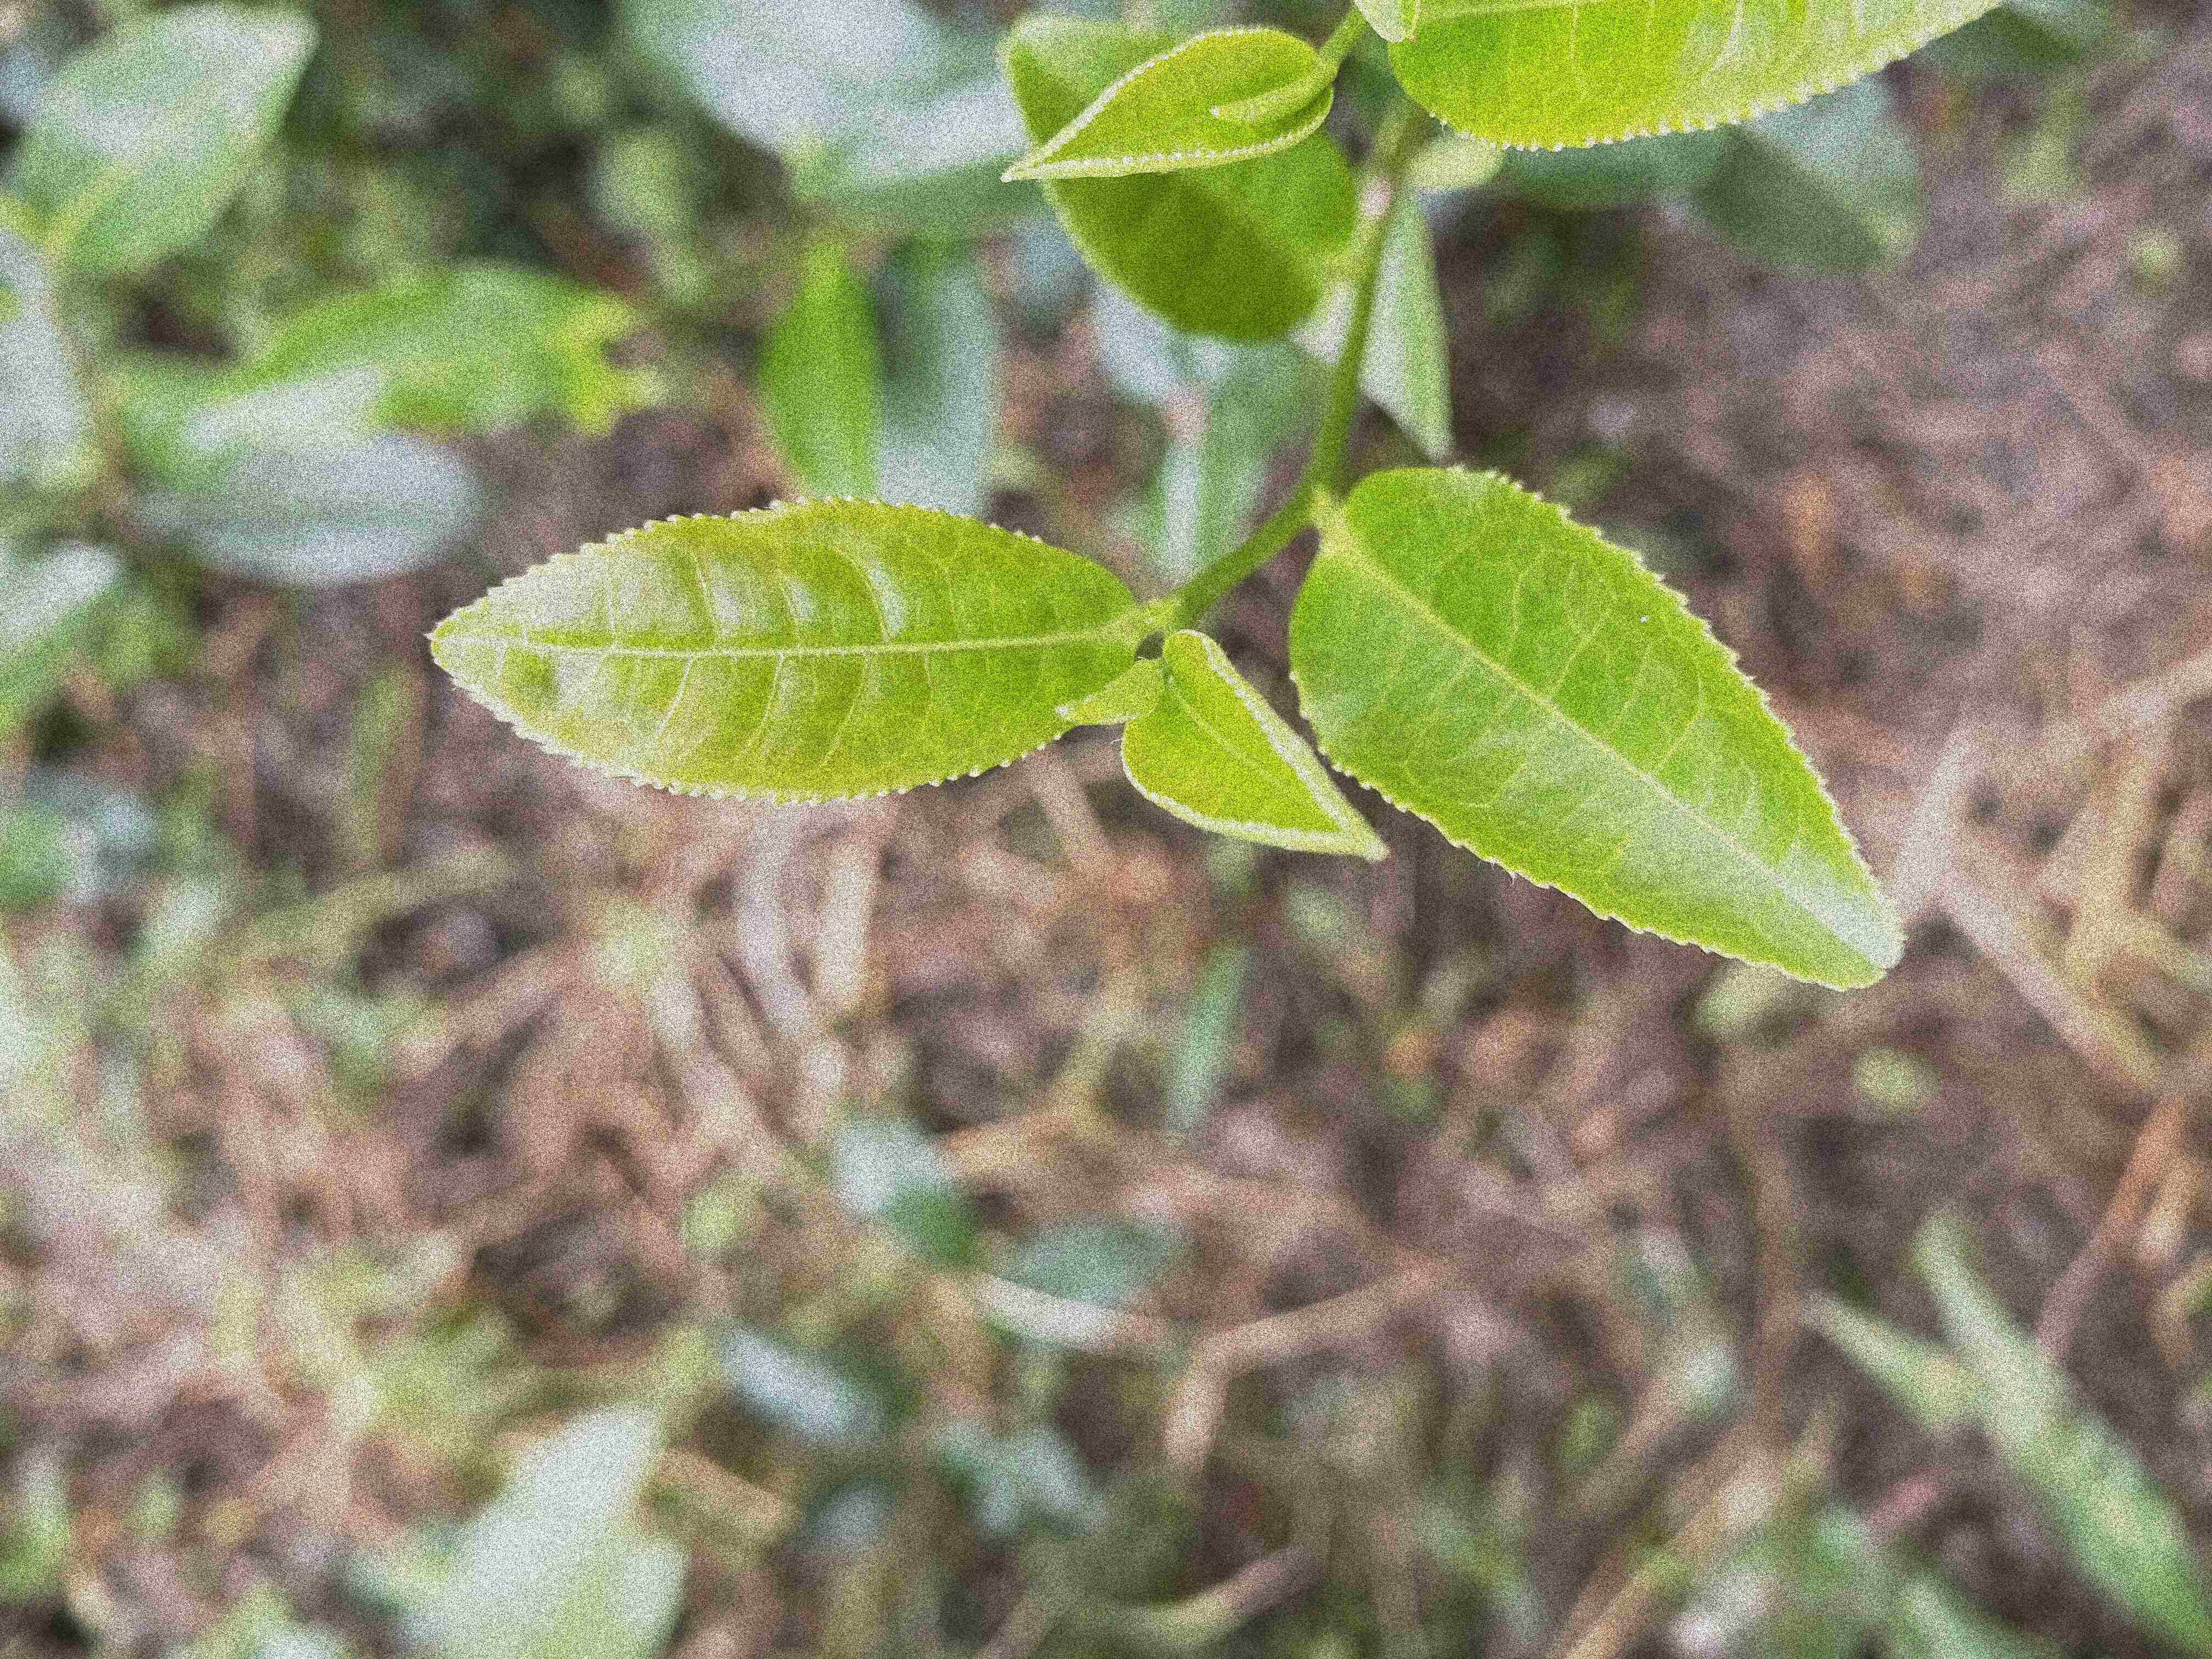healthy: (1287, 460, 1907, 993), (425, 495, 1137, 805), (1122, 626, 1390, 857), (1000, 24, 1336, 186)
